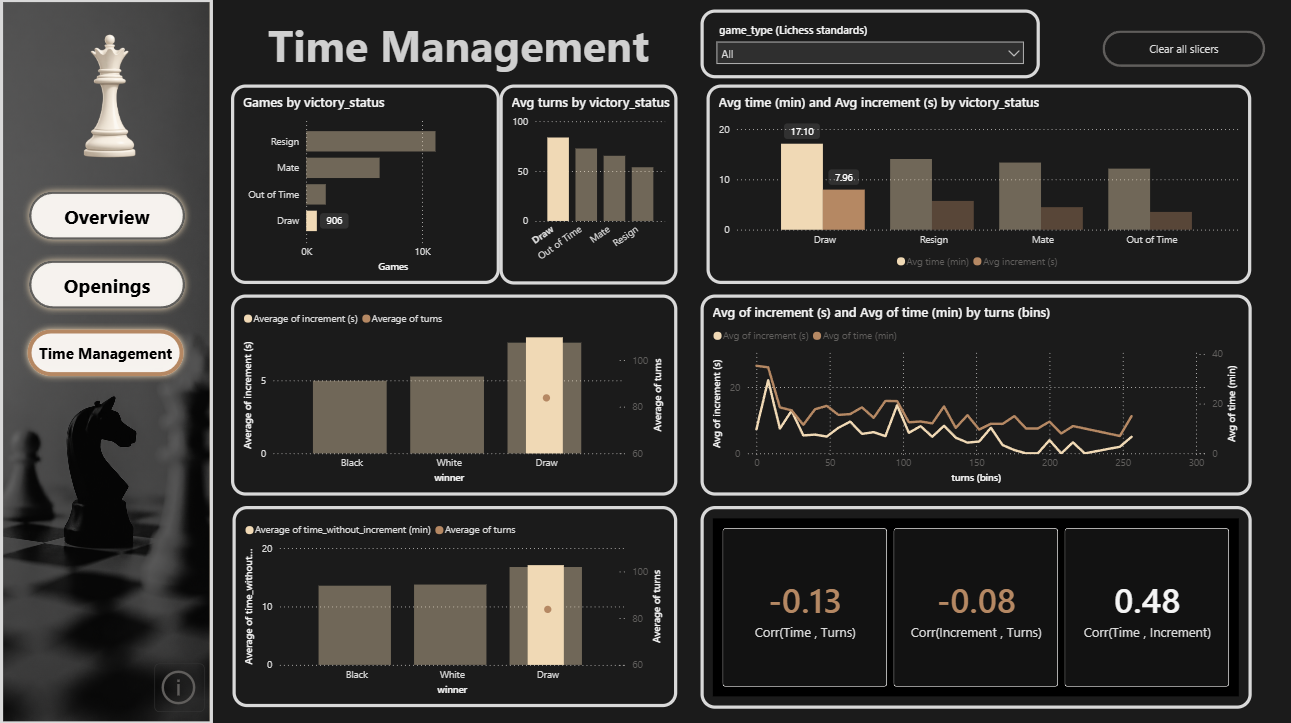

The page's visual inventory and layout, read from the dashboard file:
{"tool":"powerbi","page":{"name":"Time management","canvas":[1600,900],"ordinal":2},"visuals":[{"type":"clusteredBarChart","fields":{"Category":["chess_games.victory_status"],"Y":["Count(chess_games.game_id)"]},"box":[285.6,105.8,333.5,247.6],"z":0},{"type":"clusteredColumnChart","title":"Avg turns by victory_status","fields":{"Category":["chess_games.victory_status"],"Y":["Avg(chess_games.turns)"]},"box":[619.6,105.7,220.5,247.8],"z":1000},{"type":"slicer","fields":{"Values":["chess_games.game_type (Lichess standards)"]},"box":[869.2,12.8,421,85.6],"z":2000},{"type":"lineClusteredColumnComboChart","fields":{"Category":["chess_games.winner"],"Y":["Avg(chess_games.increment (s))"],"Y2":["Avg(chess_games.turns)"]},"box":[285.6,365.5,553.2,249.6],"z":3000},{"type":"lineChart","fields":{"Y":["Avg(chess_games.increment (s))"],"Y2":["Avg(chess_games.time_without_increment (min))"],"Category":["chess_games.turns (bins)"]},"box":[868.7,365.5,683,249.6],"z":4000},{"type":"lineClusteredColumnComboChart","fields":{"Category":["chess_games.winner"],"Y2":["Avg(chess_games.turns)"],"Y":["Avg(chess_games.time_without_increment (min))"]},"box":[287.6,629.1,551.2,249.6],"z":5000},{"type":"actionButton","box":[47.2,824,57.9,51.5],"z":6000},{"type":"actionButton","box":[1366.8,38.6,201.7,45.1],"z":7000},{"type":"shape","box":[0,0,263.9,901.2],"z":8000},{"type":"image","box":[0,0,263.9,899.1],"z":9000},{"type":"actionButton","box":[28,229.7,209.7,75.9],"z":10000},{"type":"actionButton","box":[26,401.4,209.7,73.9],"z":11000},{"type":"actionButton","box":[28,315.5,209.7,75.9],"z":12000},{"type":"actionButton","box":[189.7,822.8,61.9,59.9],"z":13000},{"type":"textbox","box":[328,14.6,716.2,83.8],"z":14000},{"type":"cardVisual","fields":{"Data":["chess_games.Corr Time_Turns","chess_games.Corr Increment_Turns","chess_games.Corr Time_Increment"]},"box":[868.7,629.1,683,251.6],"z":15000},{"type":"clusteredColumnChart","fields":{"Category":["chess_games.victory_status"],"Y":["Avg(chess_games.time_without_increment (min))","Avg(chess_games.increment (s))"]},"box":[876.7,105.8,675,247.6],"z":16000},{"type":"image","box":[47.9,37.9,175.7,165.8],"z":17000}]}

Visuals, with their boxes in screenshot pixels (x1, y1, x2, y2), scaled from the page's 1600x900 canvas onto the 1291x723 screenshot:
clusteredBarChart - chess_games.victory_status x Count(chess_games.game_id): {"left": 230, "top": 85, "right": 500, "bottom": 284}
"Avg turns by victory_status" clusteredColumnChart: {"left": 500, "top": 85, "right": 678, "bottom": 284}
slicer - chess_games.game_type (Lichess standards): {"left": 701, "top": 10, "right": 1041, "bottom": 79}
lineClusteredColumnComboChart - chess_games.winner x Avg(chess_games.increment (s)): {"left": 230, "top": 294, "right": 677, "bottom": 494}
lineChart - Avg(chess_games.increment (s)) x Avg(chess_games.time_without_increment (min)): {"left": 701, "top": 294, "right": 1252, "bottom": 494}
lineClusteredColumnComboChart - chess_games.winner x Avg(chess_games.turns): {"left": 232, "top": 505, "right": 677, "bottom": 706}
actionButton: {"left": 38, "top": 662, "right": 85, "bottom": 703}
actionButton: {"left": 1103, "top": 31, "right": 1266, "bottom": 67}
shape: {"left": 0, "top": 0, "right": 213, "bottom": 722}
image: {"left": 0, "top": 0, "right": 213, "bottom": 722}
actionButton: {"left": 23, "top": 185, "right": 192, "bottom": 245}
actionButton: {"left": 21, "top": 322, "right": 190, "bottom": 382}
actionButton: {"left": 23, "top": 253, "right": 192, "bottom": 314}
actionButton: {"left": 153, "top": 661, "right": 203, "bottom": 709}
textbox: {"left": 265, "top": 12, "right": 843, "bottom": 79}
cardVisual - chess_games.Corr Time_Turns x chess_games.Corr Increment_Turns: {"left": 701, "top": 505, "right": 1252, "bottom": 707}
clusteredColumnChart - chess_games.victory_status x Avg(chess_games.time_without_increment (min)): {"left": 707, "top": 85, "right": 1252, "bottom": 284}
image: {"left": 39, "top": 30, "right": 180, "bottom": 164}
